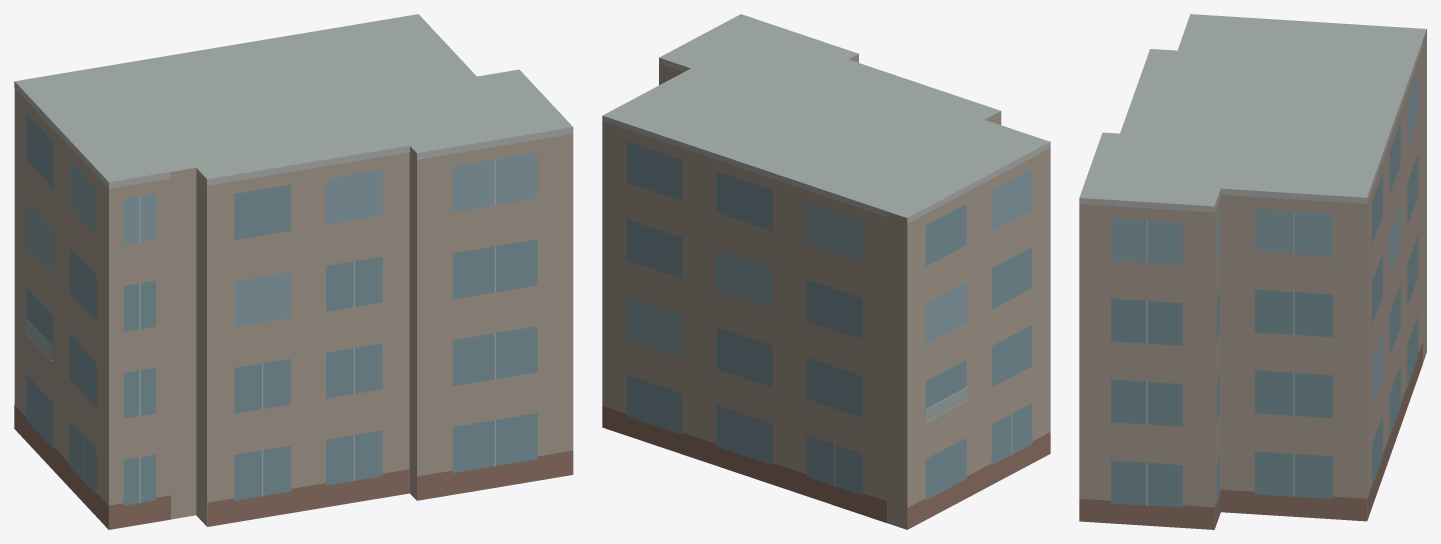
The model's file is survey-upis-32829893.glb.
The picture shows the model from 3 angles, left to right: view 1: azimuth 30°, elevation 25°; view 2: azimuth 150°, elevation 25°; view 3: azimuth 270°, elevation 25°; orthographic projection. The views are drawn at different scales.
Parts seen in each view (by area): view 1: survey-upis-32829893.tmp; view 2: survey-upis-32829893.tmp; view 3: survey-upis-32829893.tmp.
Boxes of the visible parts, x1=… form: survey-upis-32829893.tmp: x1=14, y1=14, x2=573, y2=529; survey-upis-32829893.tmp: x1=602, y1=14, x2=1050, y2=529; survey-upis-32829893.tmp: x1=1079, y1=14, x2=1426, y2=529.
Bounding box in the file's own units: 16.46 × 12.9 × 12.57.
